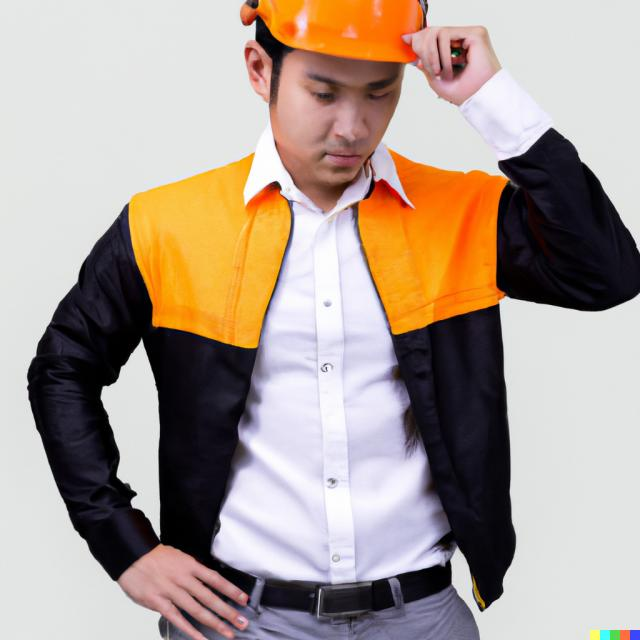Safety-Helmet: (244, 1, 428, 64)
